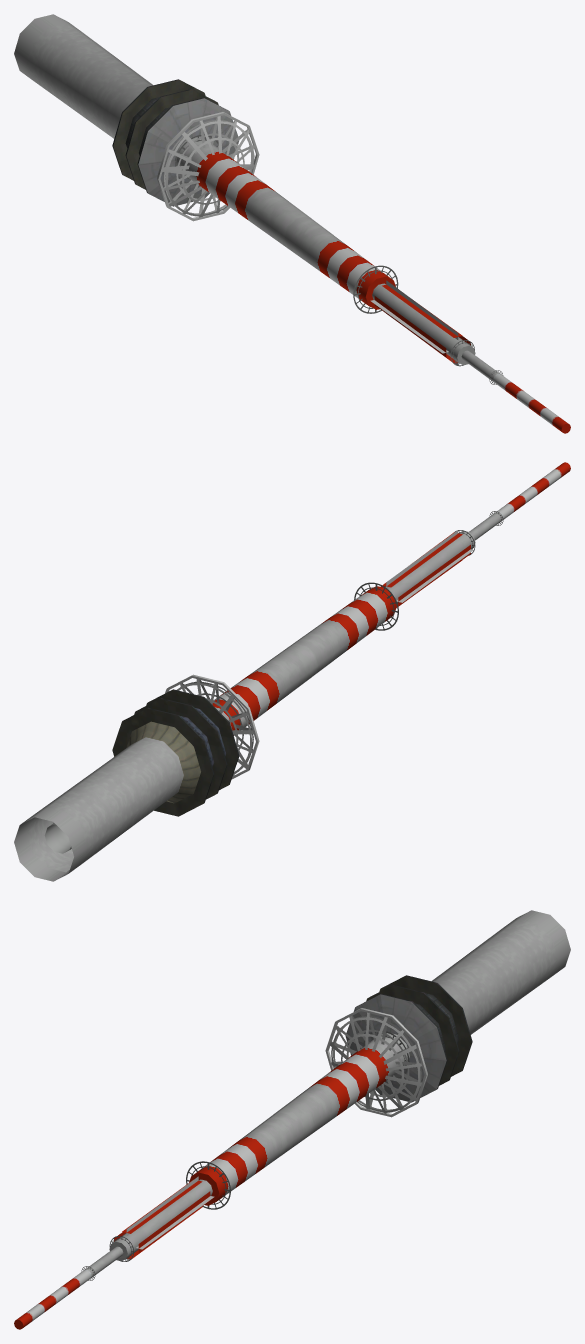
The model's file is transmitter_big.obj.
The picture shows the model from 3 angles, top to bottom: view 1: azimuth 30°, elevation 25°; view 2: azimuth 150°, elevation 25°; view 3: azimuth 330°, elevation 25°; orthographic projection.
Visible parts, largest first — view 1: transmitter_big; view 2: transmitter_big; view 3: transmitter_big.
Boxes of the visible parts, x1,y1,x2,y2 form: transmitter_big: [14, 14, 570, 433]; transmitter_big: [14, 462, 570, 881]; transmitter_big: [14, 910, 570, 1329].
Bounding box in the file's own units: 22.94 × 21.82 × 205.
1 material, 1 textured.
